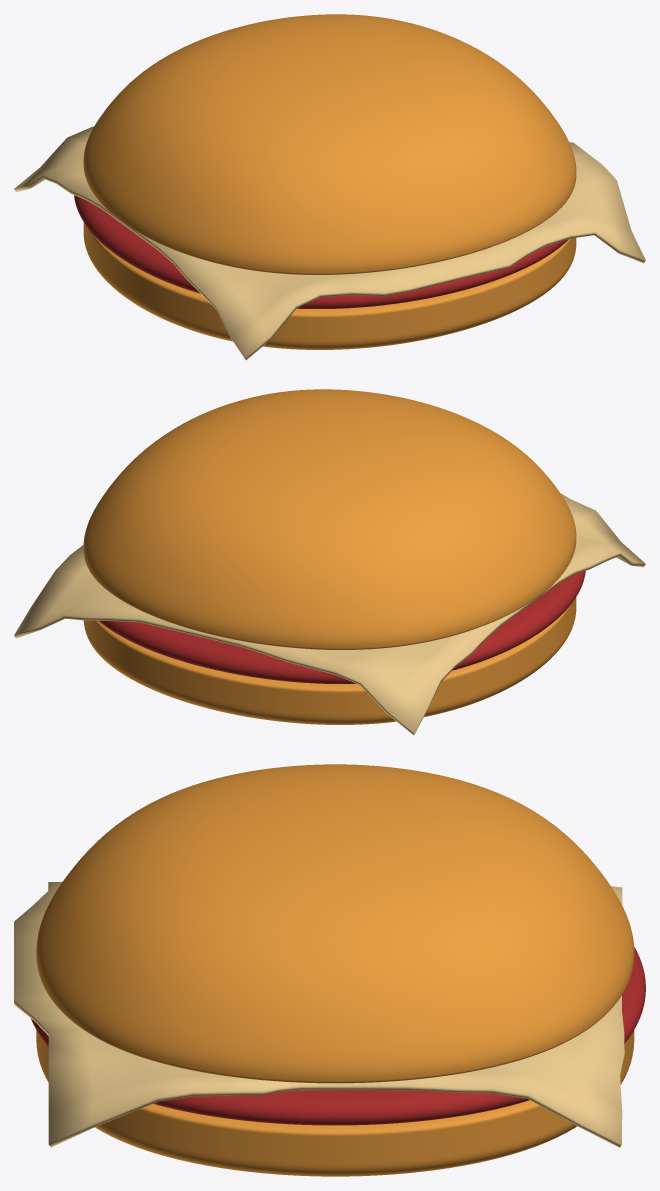
The model's file is hamburger.glb.
The picture shows the model from 3 angles, top to bottom: view 1: azimuth 30°, elevation 25°; view 2: azimuth 150°, elevation 25°; view 3: azimuth 270°, elevation 25°; orthographic projection. The views are drawn at different scales.
Visible parts, largest first — view 1: Cube.002, Plane, Cube, Cube.001; view 2: Cube.002, Plane, Cube, Cube.001; view 3: Cube.002, Plane, Cube, Cube.001.
Boxes of the visible parts, x1=… form: Cube.002: x1=83, y1=14, x2=576, y2=274; Plane: x1=14, y1=126, x2=645, y2=360; Cube: x1=83, y1=222, x2=576, y2=349; Cube.001: x1=74, y1=195, x2=568, y2=308; Cube.002: x1=83, y1=389, x2=576, y2=649; Plane: x1=14, y1=493, x2=645, y2=735; Cube: x1=83, y1=597, x2=576, y2=724; Cube.001: x1=99, y1=571, x2=585, y2=683; Cube.002: x1=36, y1=764, x2=634, y2=1083; Plane: x1=14, y1=881, x2=624, y2=1147; Cube: x1=36, y1=1030, x2=634, y2=1176; Cube.001: x1=31, y1=946, x2=645, y2=1125.
Bounding box in the file's own units: 9.38 × 4.71 × 9.54.
